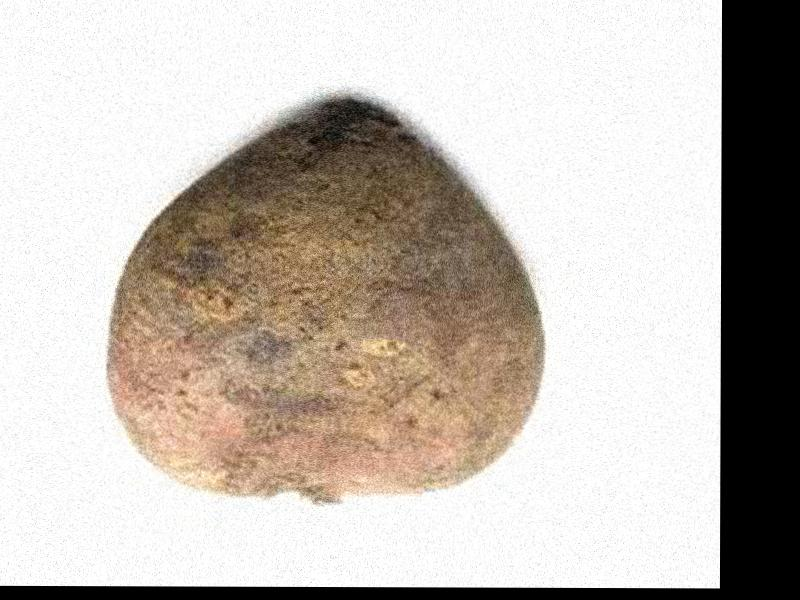Beet: (105, 100, 548, 500)
